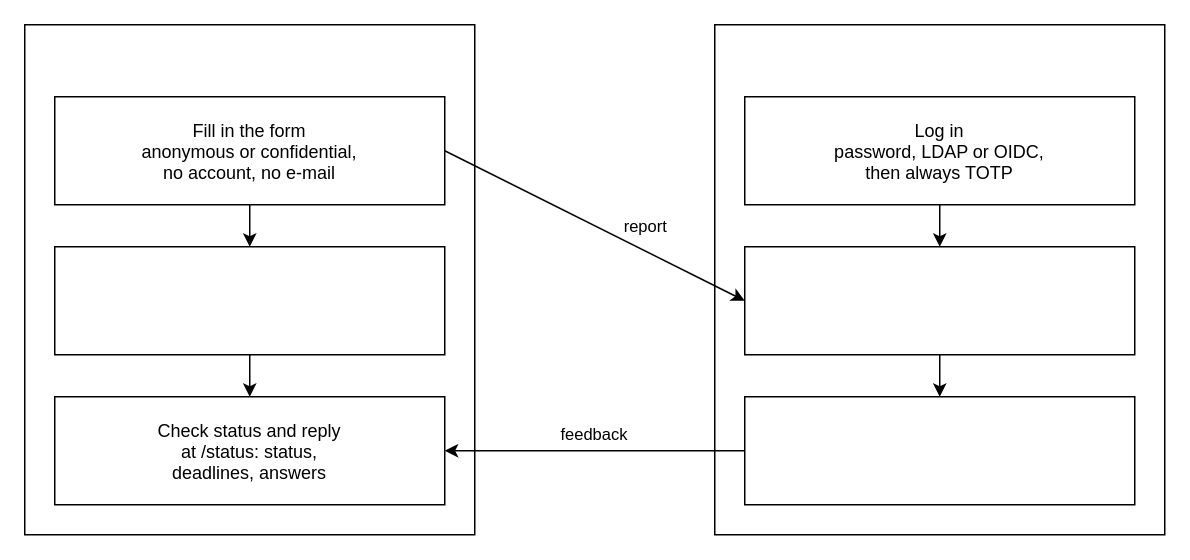
This 1190x560 diagram has some shape labels left out. The shapes that lost their labels are listed below. From the top down, each one's box as (x1, y1, x2, y2) in pixels, then its label:
(53, 245, 445, 355): Note case number + PIN shown exactly once, lost means lost
(743, 245, 1135, 355): Acknowledge receipt within 7 days § 17 (1) no. 1 HinSchG
(743, 395, 1135, 505): Review and give feedback within 3 months § 17 (2) HinSchG
